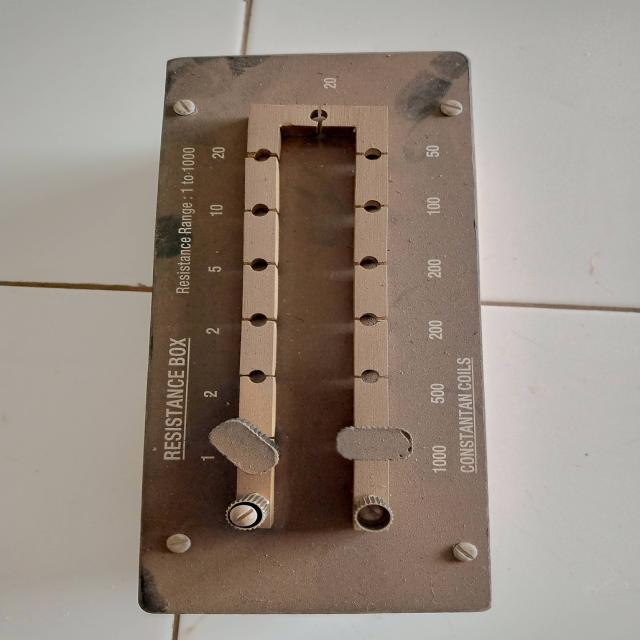Pinned Resistance Box: (123, 46, 500, 625)
